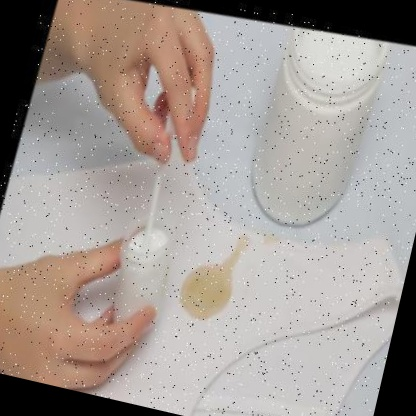coffee: (188, 270, 228, 312)
